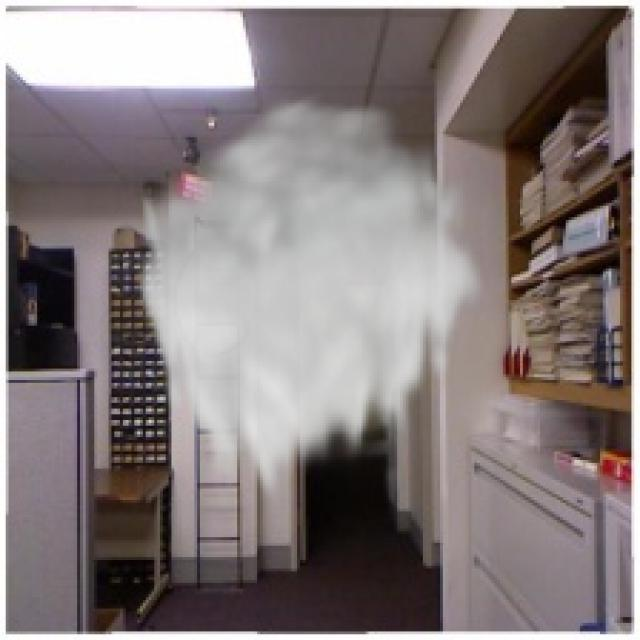Smoke: (134, 88, 489, 514)
